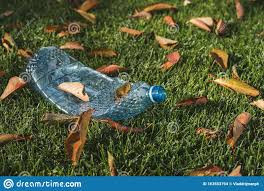plastic_bottle: (25, 43, 169, 129)
